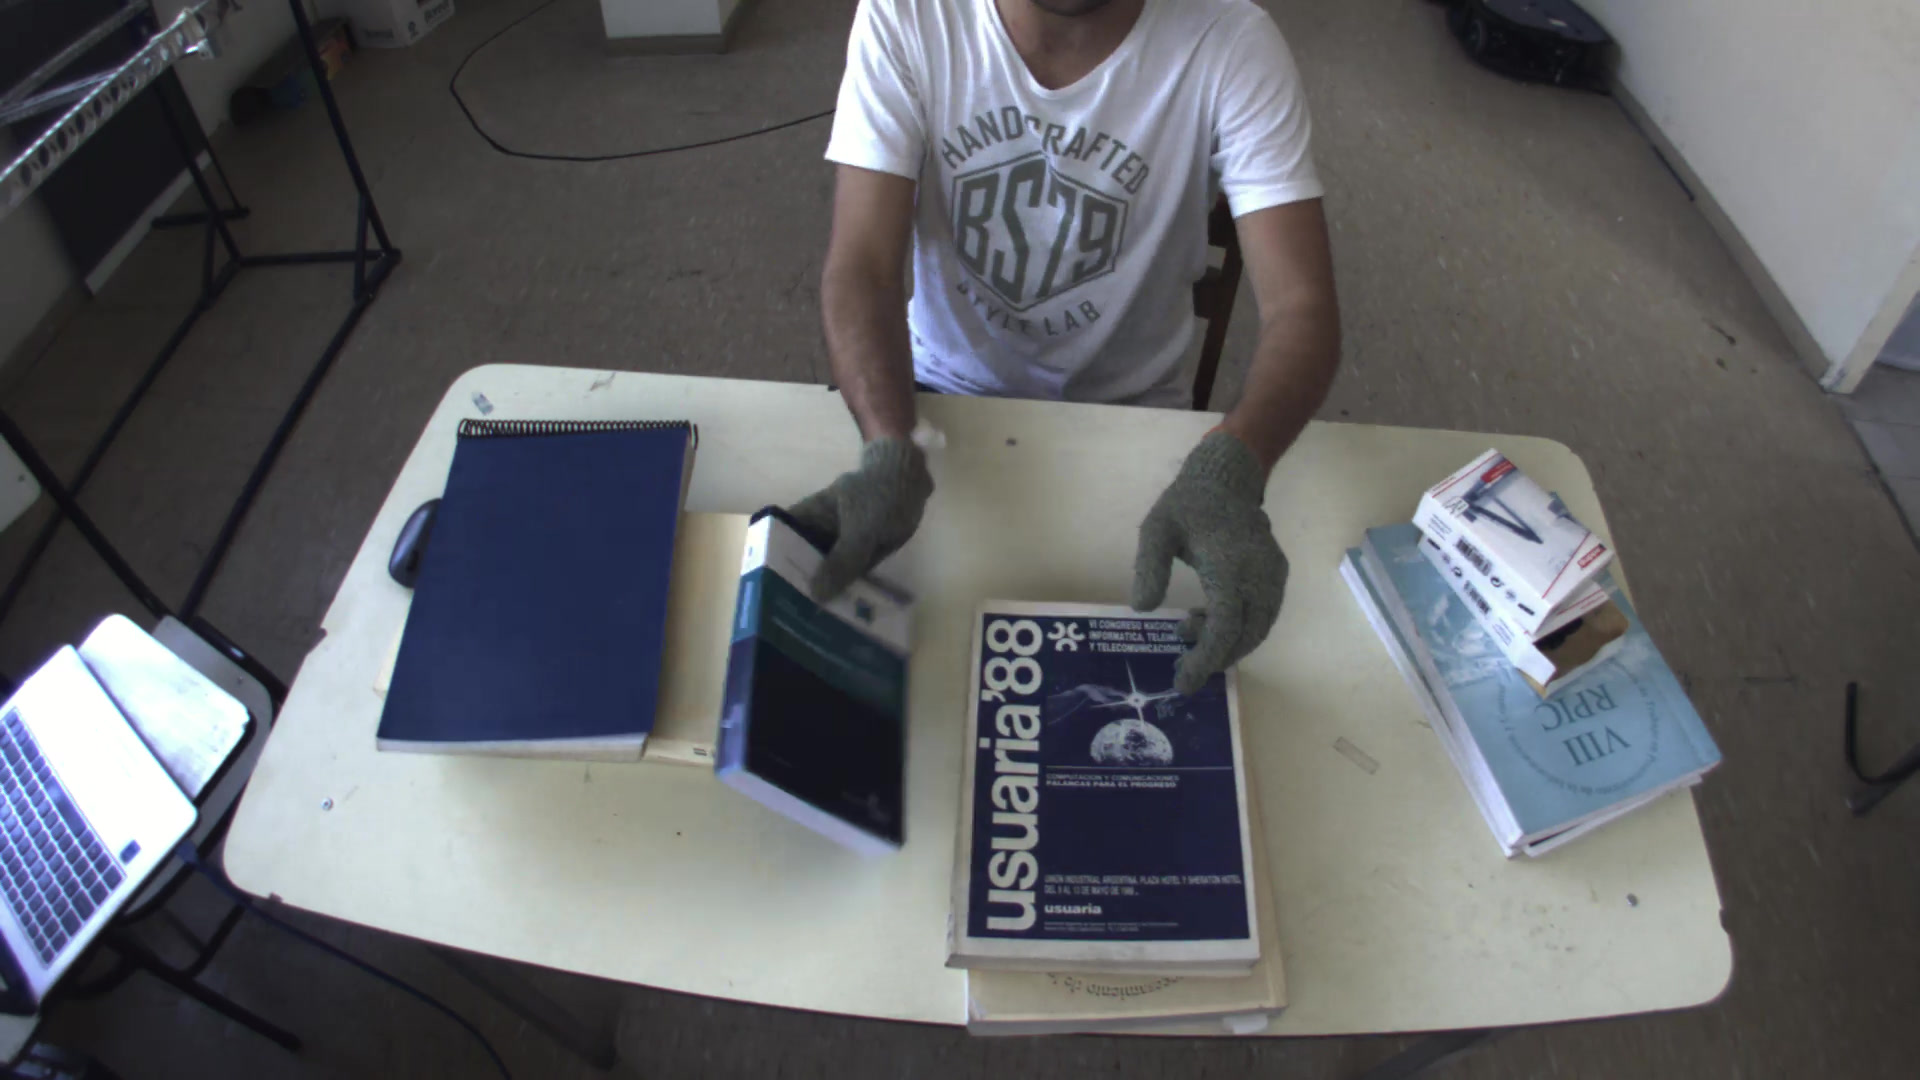hand: (1125, 422, 1305, 703), (765, 431, 945, 616)
